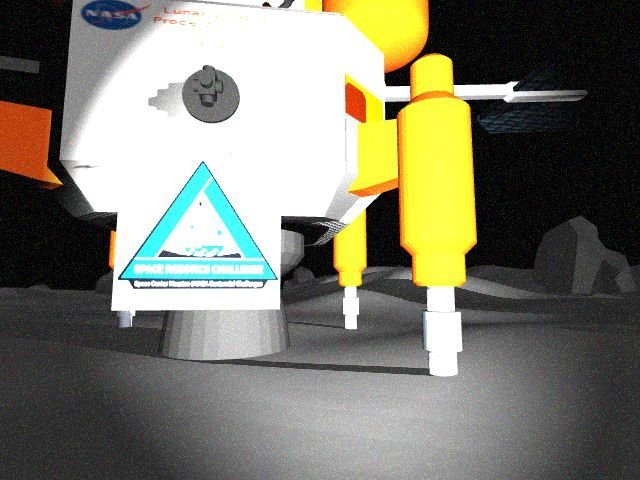basemarker: (117, 160, 278, 291)
